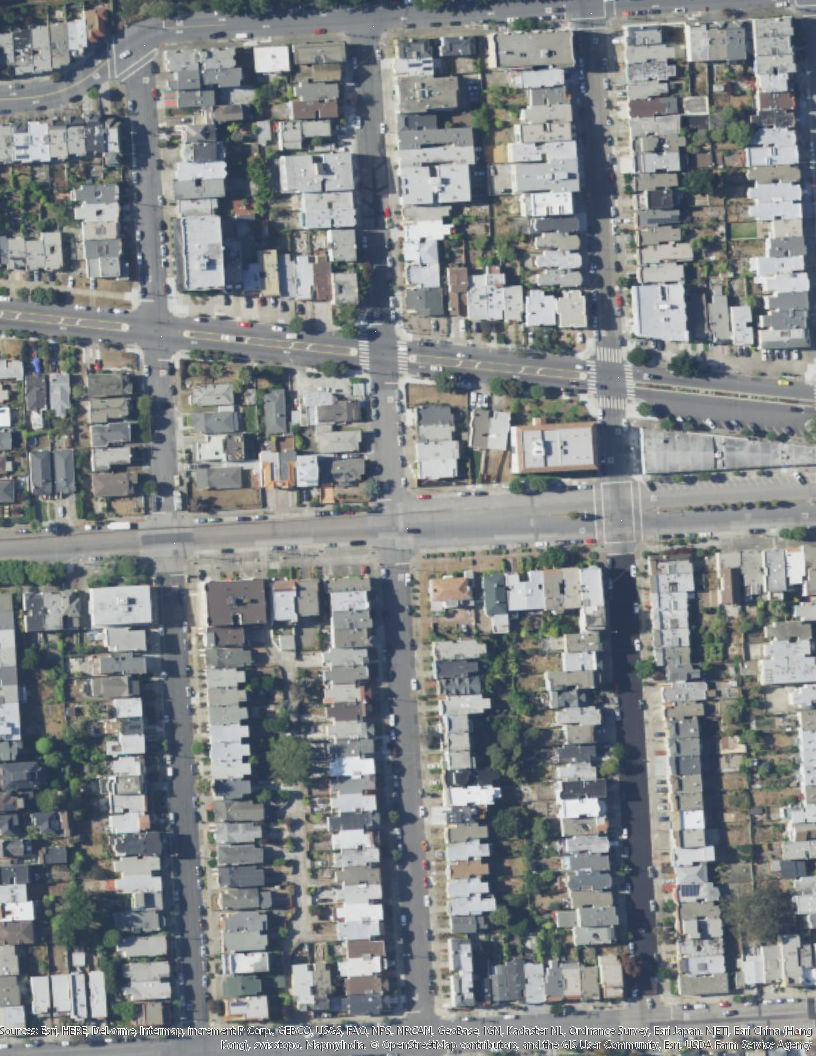zebracross: (585, 359, 598, 394), (622, 365, 636, 397), (596, 396, 625, 411), (597, 347, 623, 363), (397, 340, 409, 372), (358, 340, 371, 369)
